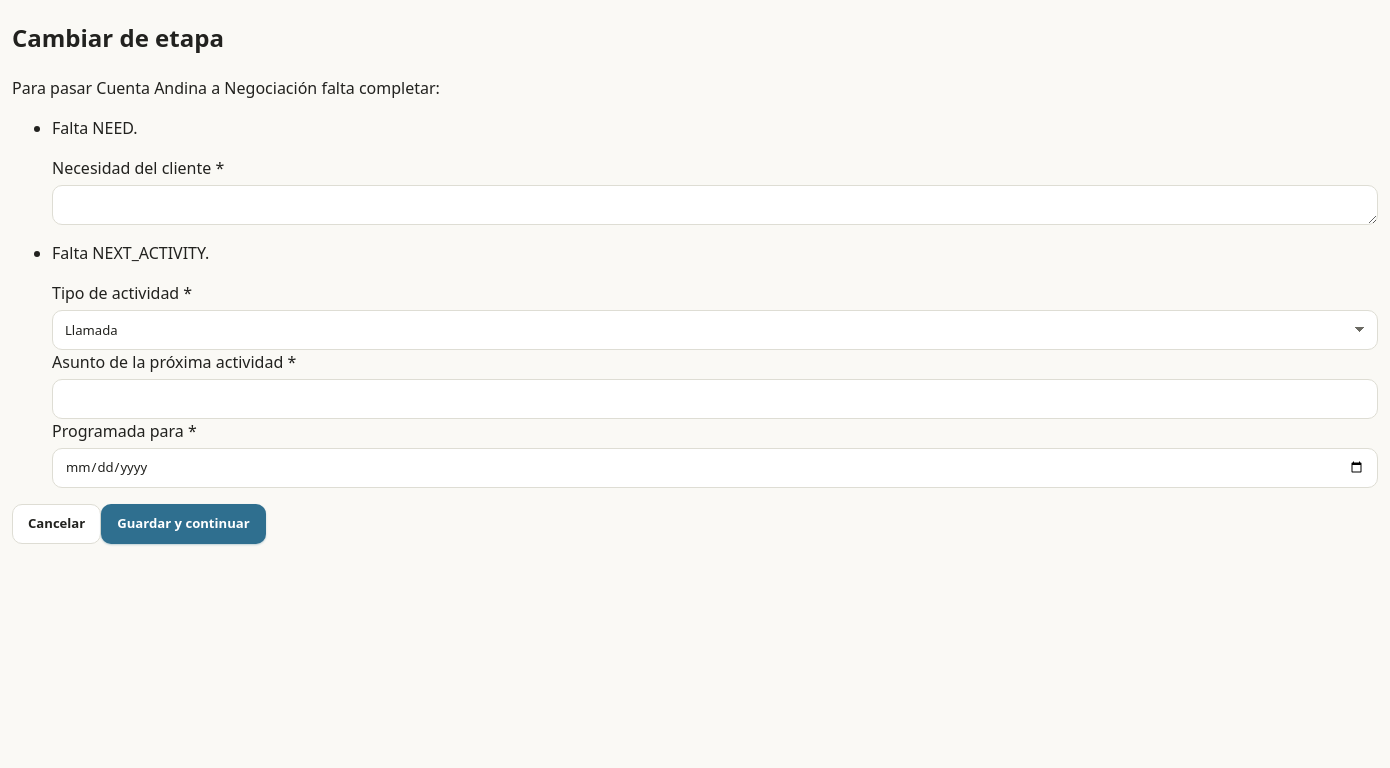
Test: al confirmar envía lo escrito y, si sigue faltando algo, vuelve a pedirlo sin cerrar
Type "Tienda en línea" into the text box labelled "Necesidad del cliente" at (715, 205), box [52,185,1378,225]
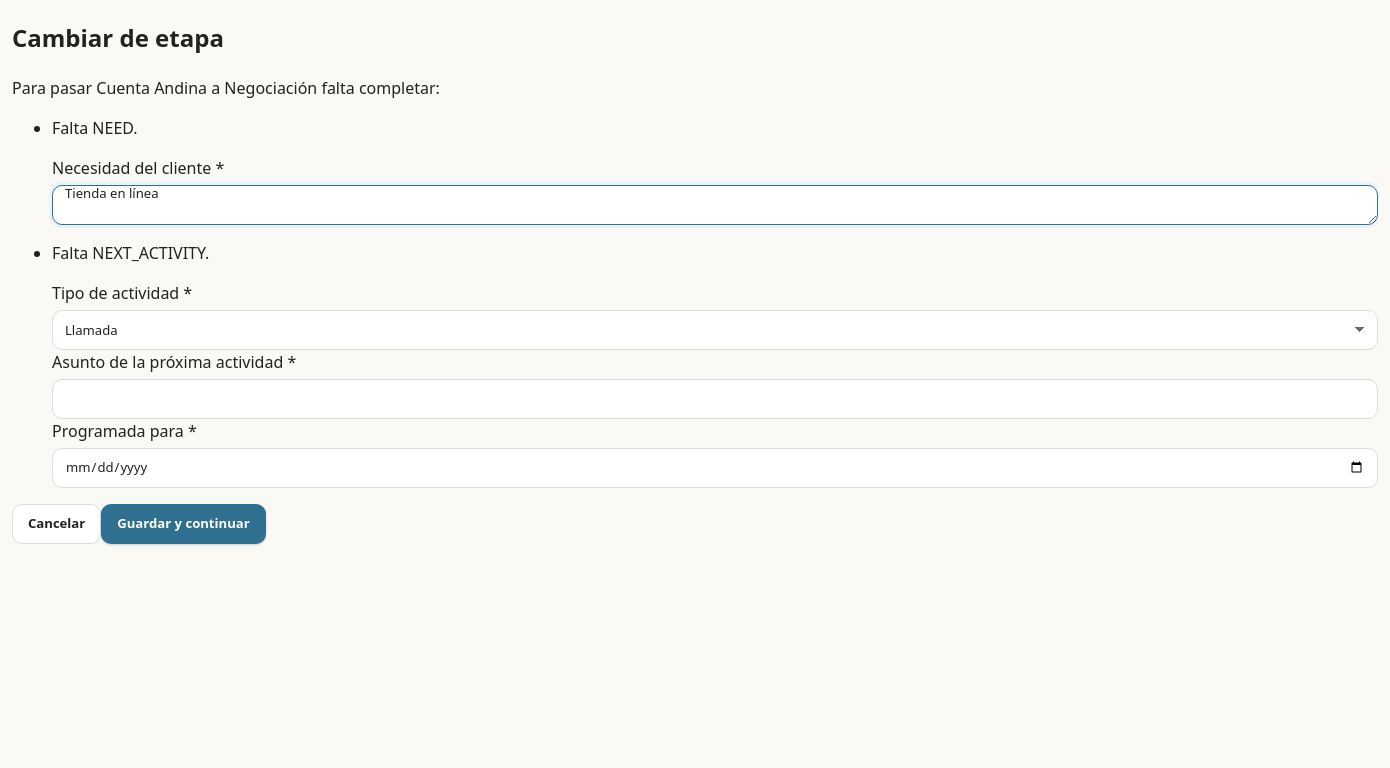
Click the button "Guardar y continuar" at (184, 524), box [101,504,266,544]
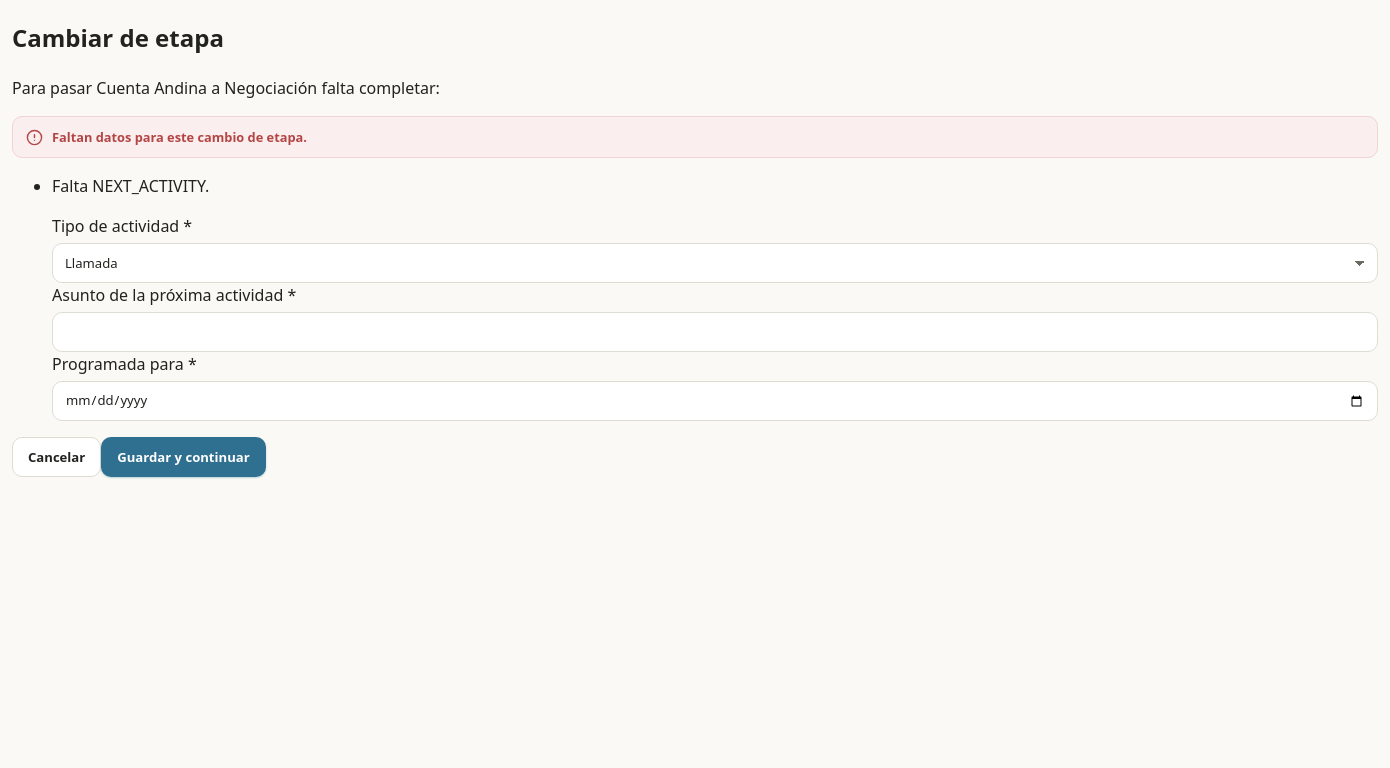
Expected: the text "Falta NEXT_ACTIVITY." is shown, [52,175,209,197]
Result: the message reads "Faltan datos para este cambio de etapa." at [52,128,307,146]
Result: the label labelled "Necesidad del cliente" is gone
